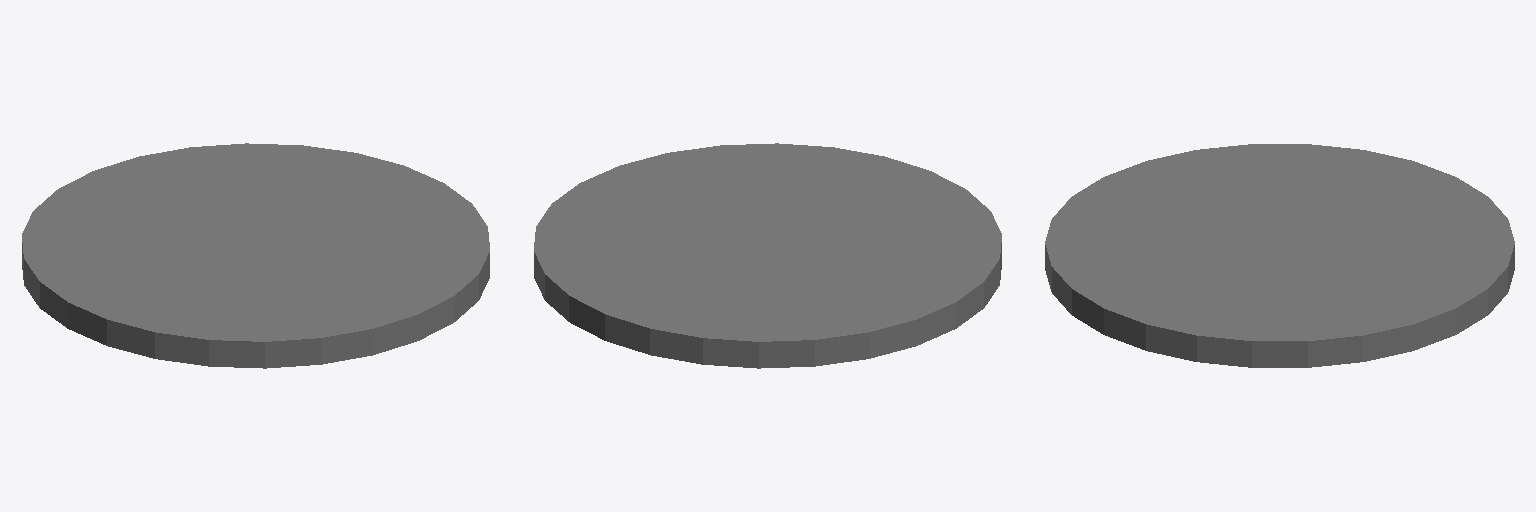
The model's file is rotor.obj.
The picture shows the model from 3 angles: view 1: azimuth 30°, elevation 25°; view 2: azimuth 150°, elevation 25°; view 3: azimuth 270°, elevation 25°; orthographic projection.
Parts seen in each view (by area): view 1: Cylinder; view 2: Cylinder; view 3: Cylinder.
Boxes of the visible parts, x1=… form: Cylinder: x1=22, y1=143, x2=489, y2=368; Cylinder: x1=534, y1=143, x2=1001, y2=368; Cylinder: x1=1045, y1=144, x2=1514, y2=367.
Size of the model in its own units: 0.9927 by 0.0625 by 1.